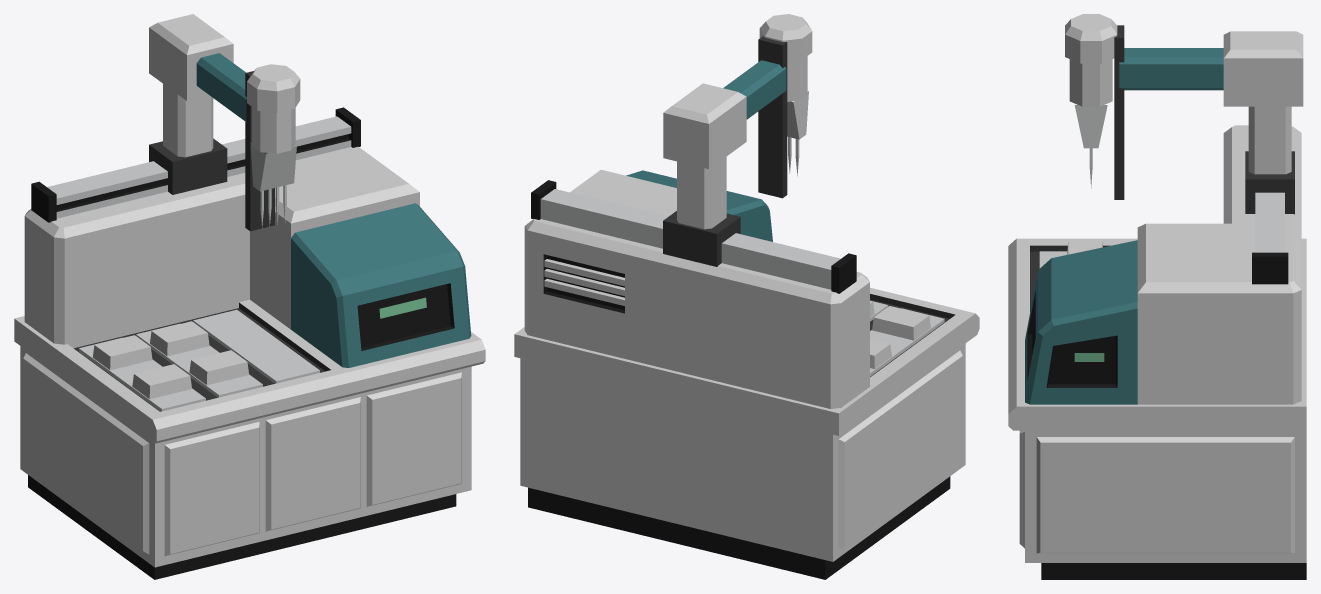
Rendered from workerbot.glb.
3 renders of one model, left to right at view 1: azimuth 30°, elevation 25°; view 2: azimuth 150°, elevation 25°; view 3: azimuth 270°, elevation 25°, orthographic. The views are drawn at different scales.
Visible parts, largest first — view 1: liquid-handling-robot, gantry, probe, plates, arm; view 2: liquid-handling-robot, gantry, arm, probe, plates; view 3: liquid-handling-robot, gantry, arm, probe, plates.
Boxes of the visible parts, left/top/right/bottom form: liquid-handling-robot: left=14, top=107, right=485, bottom=579; gantry: left=149, top=14, right=233, bottom=194; probe: left=247, top=64, right=300, bottom=228; plates: left=92, top=321, right=248, bottom=399; arm: left=196, top=53, right=274, bottom=231; liquid-handling-robot: left=514, top=169, right=979, bottom=579; gantry: left=663, top=83, right=746, bottom=266; arm: left=723, top=36, right=787, bottom=198; probe: left=759, top=14, right=812, bottom=176; plates: left=870, top=301, right=930, bottom=368; liquid-handling-robot: left=1008, top=125, right=1306, bottom=579; gantry: left=1223, top=31, right=1303, bottom=214; arm: left=1114, top=25, right=1223, bottom=199; probe: left=1065, top=14, right=1117, bottom=188; plates: left=1067, top=238, right=1102, bottom=254.
Bounding box in the file's own units: 1.2 × 1.59 × 0.9.
